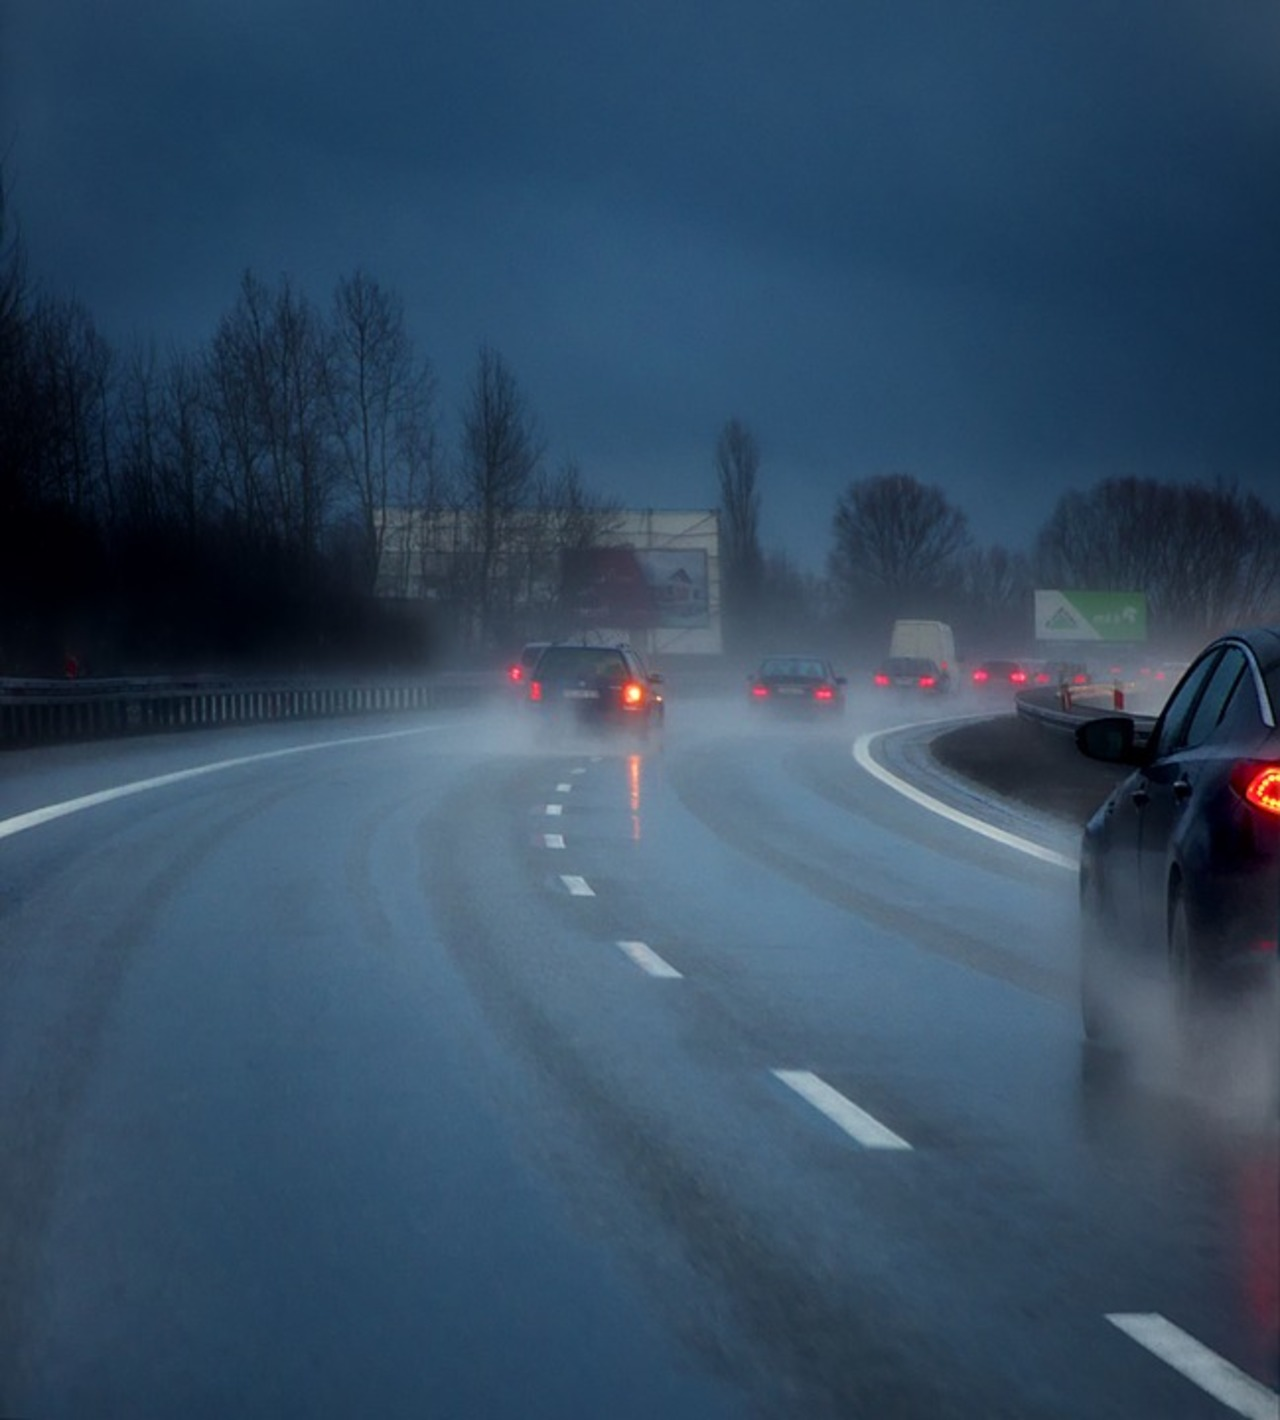car: (1065, 630, 1278, 1114), (509, 636, 665, 748), (747, 654, 846, 716), (895, 614, 959, 693), (872, 649, 944, 708), (1034, 651, 1093, 695), (972, 653, 1023, 693)
